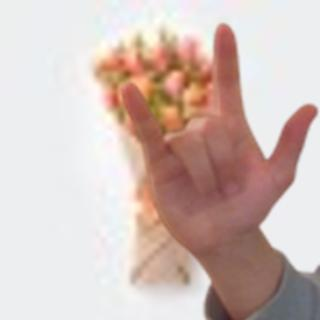ILY: (113, 17, 320, 258)
